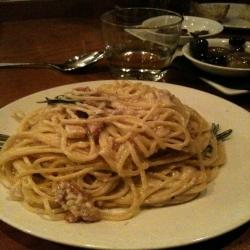carbonara: (2, 81, 242, 231)
